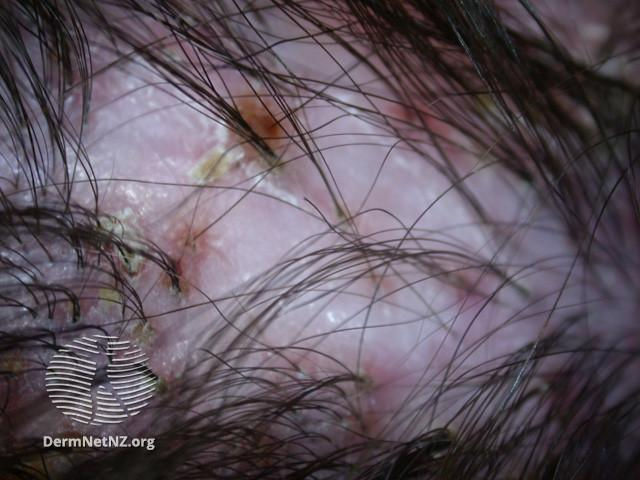Folliculitis: (46, 24, 545, 373)
